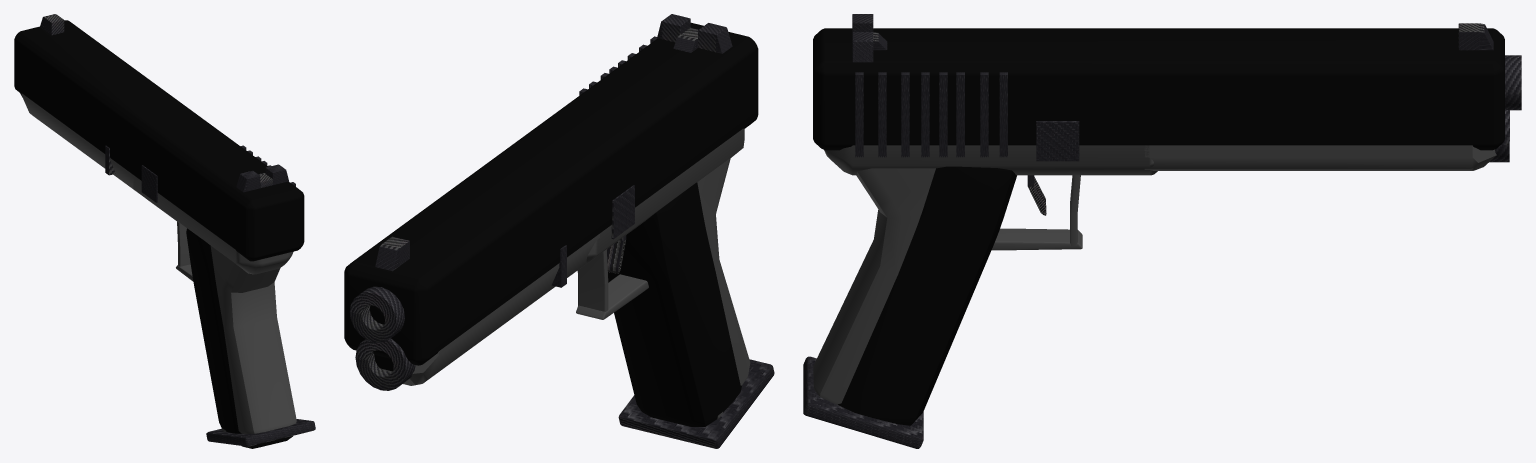
File: glock 18 matte black grey metal.fbx
The picture shows the model from 3 angles, left to right: view 1: azimuth 30°, elevation 25°; view 2: azimuth 150°, elevation 25°; view 3: azimuth 270°, elevation 25°; orthographic projection. The views are drawn at different scales.
Visible parts, largest first — view 1: group57_pasted__pCube49; view 2: group57_pasted__pCube49; view 3: group57_pasted__pCube49.
Part boxes in pixels (left/top/right/bottom): group57_pasted__pCube49: left=14, top=14, right=315, bottom=448; group57_pasted__pCube49: left=344, top=14, right=774, bottom=448; group57_pasted__pCube49: left=803, top=14, right=1521, bottom=448.
Size of the model in its own units: 0.00411 by 0.0154 by 0.0252.
Materials: 8 (3 with a texture image).
